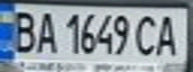1: (60, 9, 81, 55)
4: (93, 10, 115, 55)
6: (78, 9, 100, 55)
9: (112, 11, 133, 56)
A: (151, 11, 184, 58), (33, 8, 60, 55)
B: (6, 7, 39, 54)
C: (133, 11, 163, 57)
